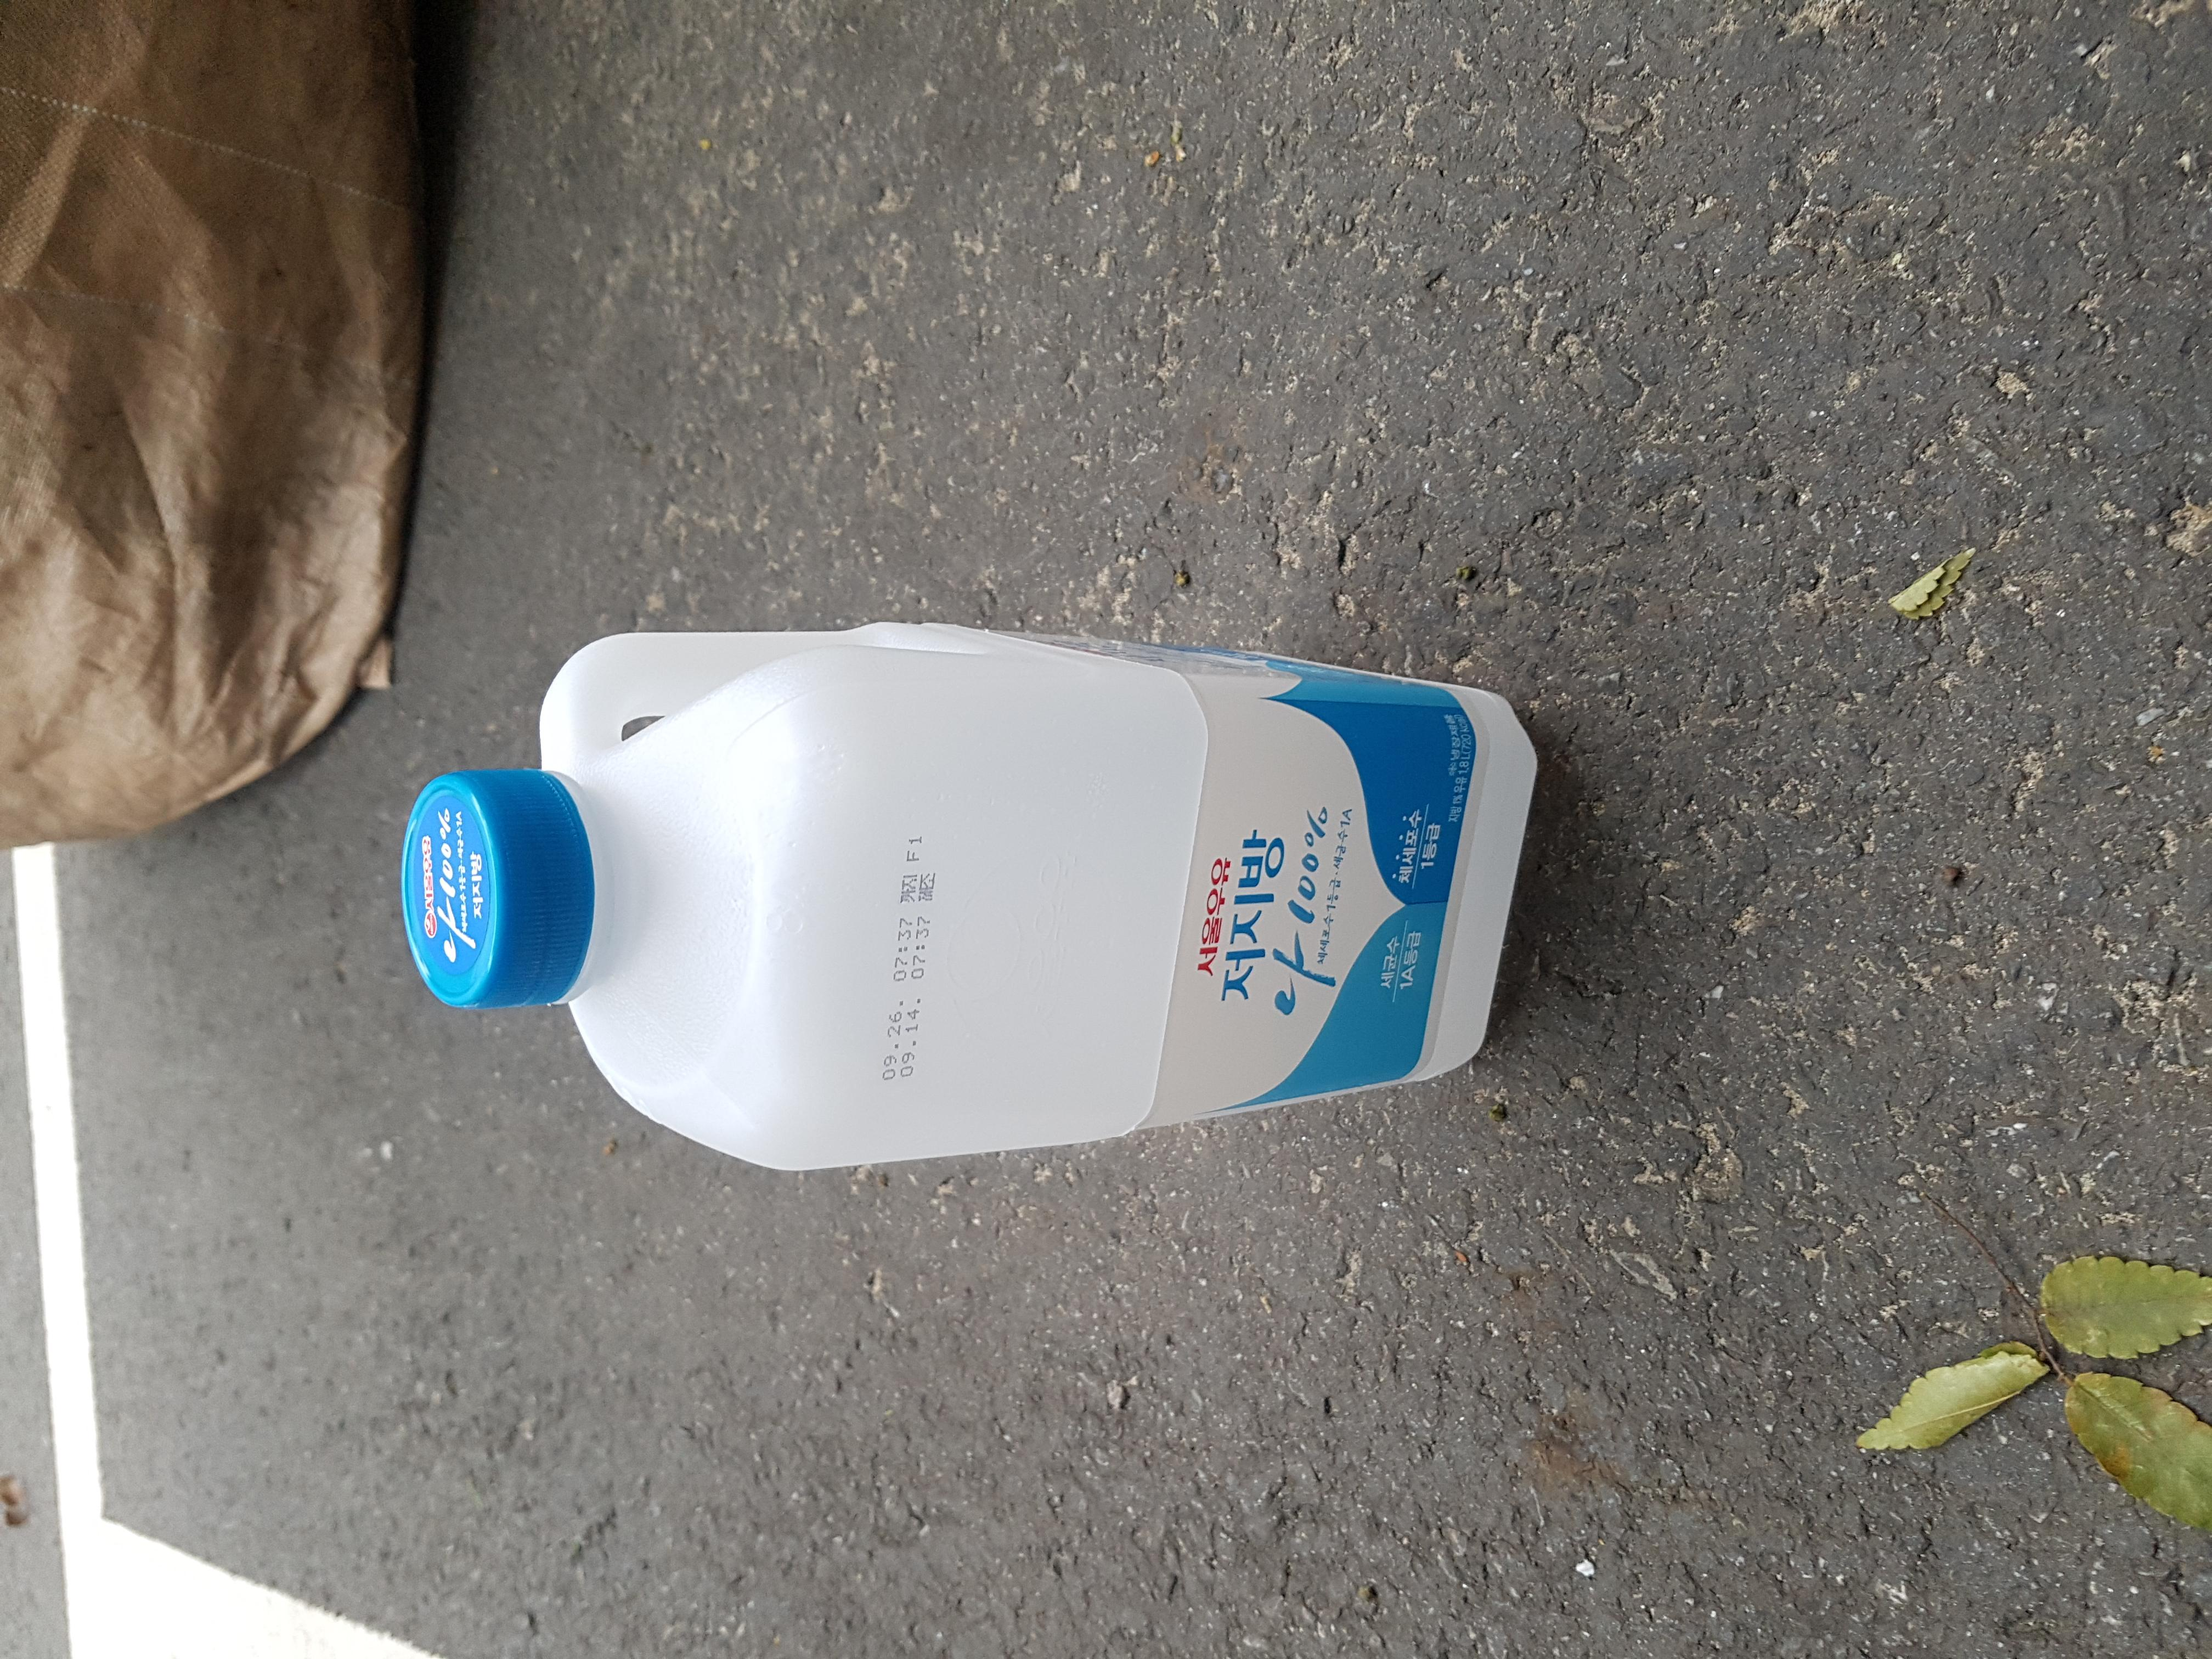bottle: (603, 267, 1430, 1262)
